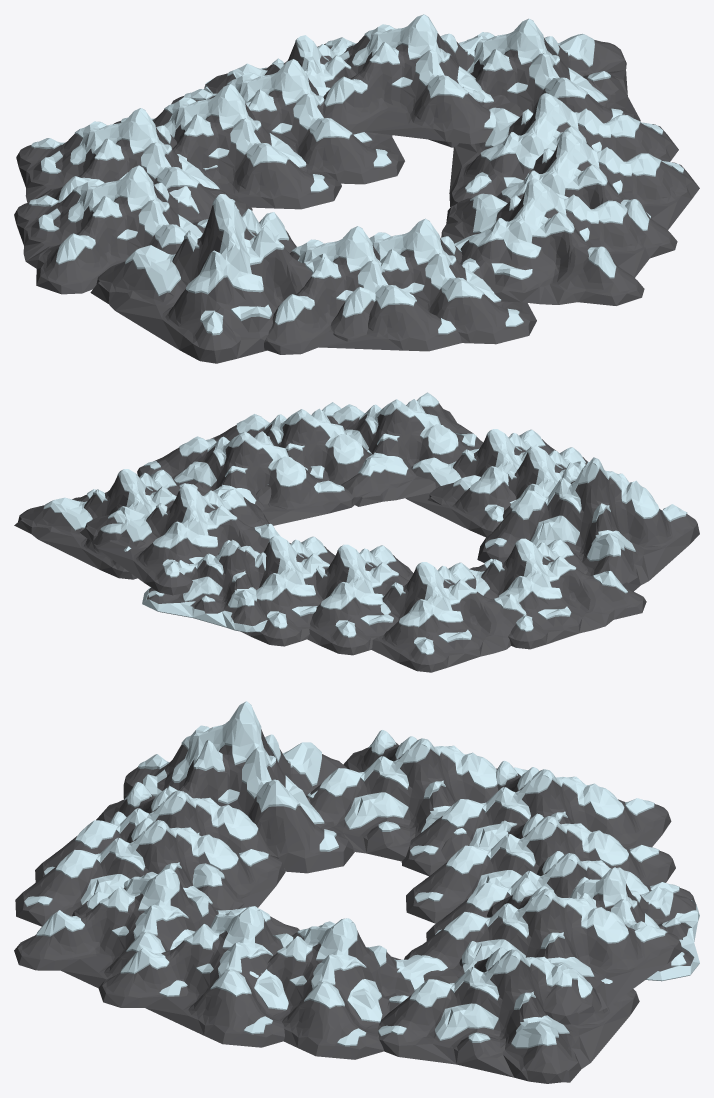
Rendered from SM_Env_MountainSnow.glb.
3 views of the same model, one above another, from view 1: azimuth 30°, elevation 25°; view 2: azimuth 150°, elevation 25°; view 3: azimuth 270°, elevation 25° (orthographic). The views are drawn at different scales.
Parts seen in each view (by area): view 1: SM_Env_MountainSnow; view 2: SM_Env_MountainSnow; view 3: SM_Env_MountainSnow.
Boxes of the visible parts, x1,y1,x2,y2 form: SM_Env_MountainSnow: (14, 14, 699, 363); SM_Env_MountainSnow: (14, 392, 699, 672); SM_Env_MountainSnow: (14, 701, 699, 1083).
Size of the model in its own units: 1405 by 224 by 1200.
1 material, 1 textured.
